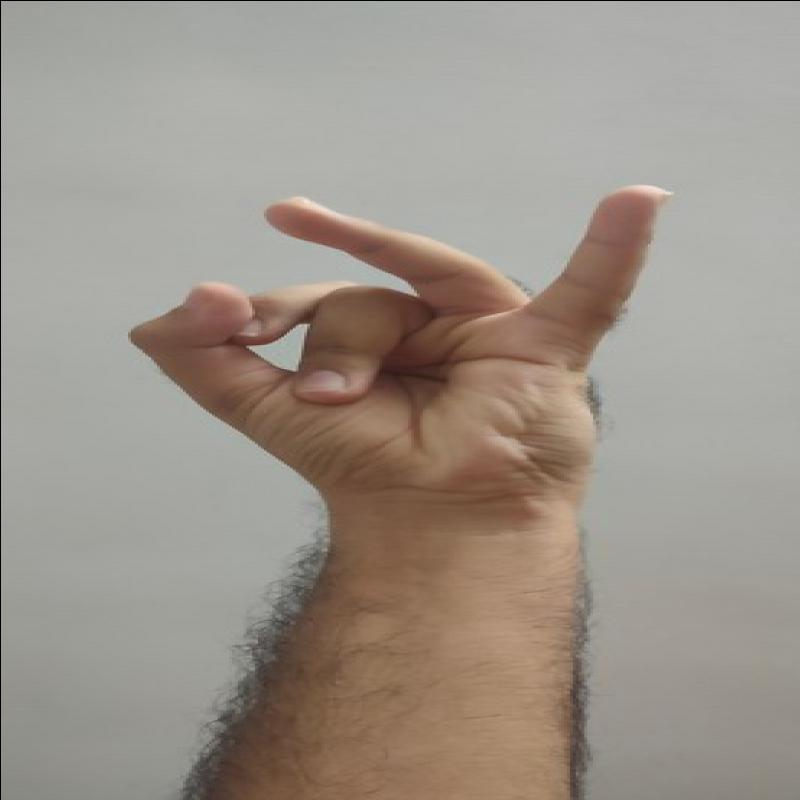Katakam: (117, 171, 685, 534)
